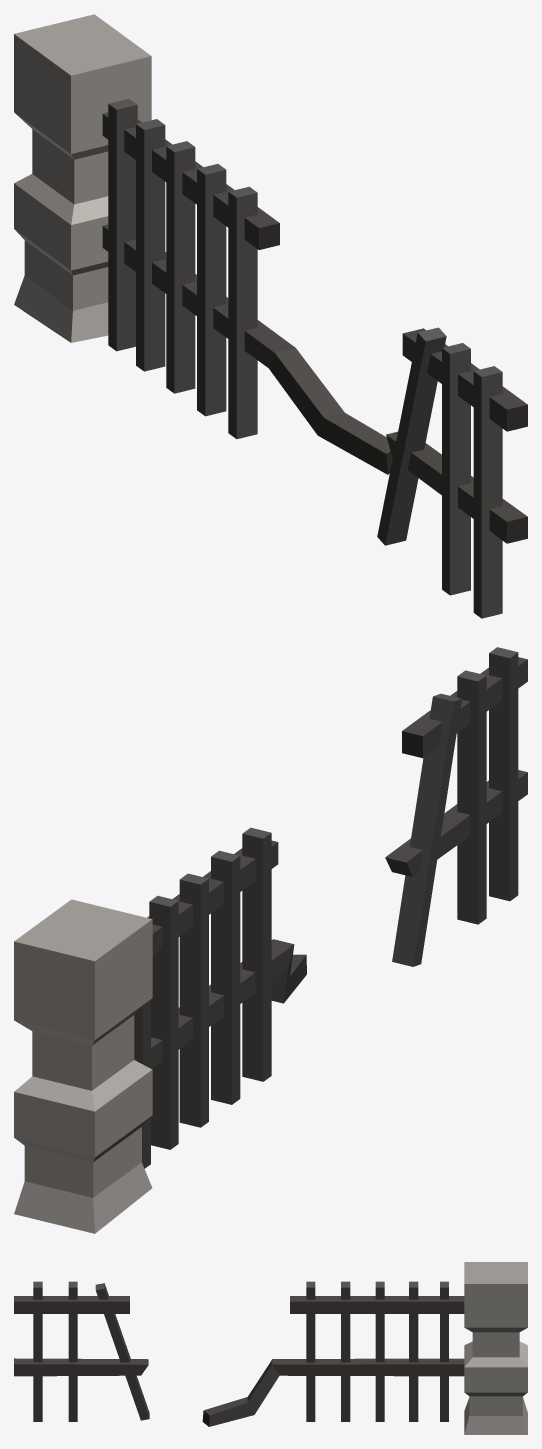
File: Fence_Iron_Damaged_02.fbx
3 renders of one model, top to bottom at view 1: azimuth 30°, elevation 25°; view 2: azimuth 150°, elevation 25°; view 3: azimuth 270°, elevation 25°, orthographic. The views are drawn at different scales.
Parts seen in each view (by area): view 1: Fence_Iron_Damaged_02; view 2: Fence_Iron_Damaged_02; view 3: Fence_Iron_Damaged_02.
Boxes of the visible parts, <box> form: Fence_Iron_Damaged_02: <box>14,14,527,618</box>; Fence_Iron_Damaged_02: <box>14,647,527,1233</box>; Fence_Iron_Damaged_02: <box>14,1262,527,1434</box>.
Bounding box in the file's own units: 0.6068 × 4.81 × 1.56.
